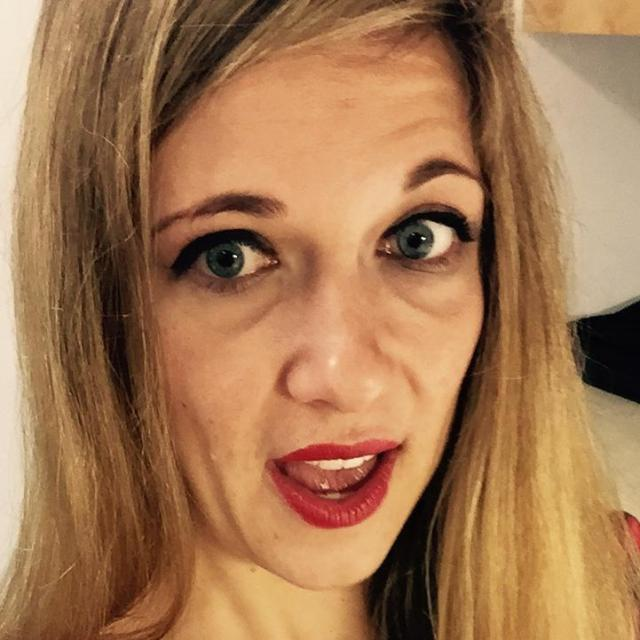surprised: (130, 97, 500, 597)
